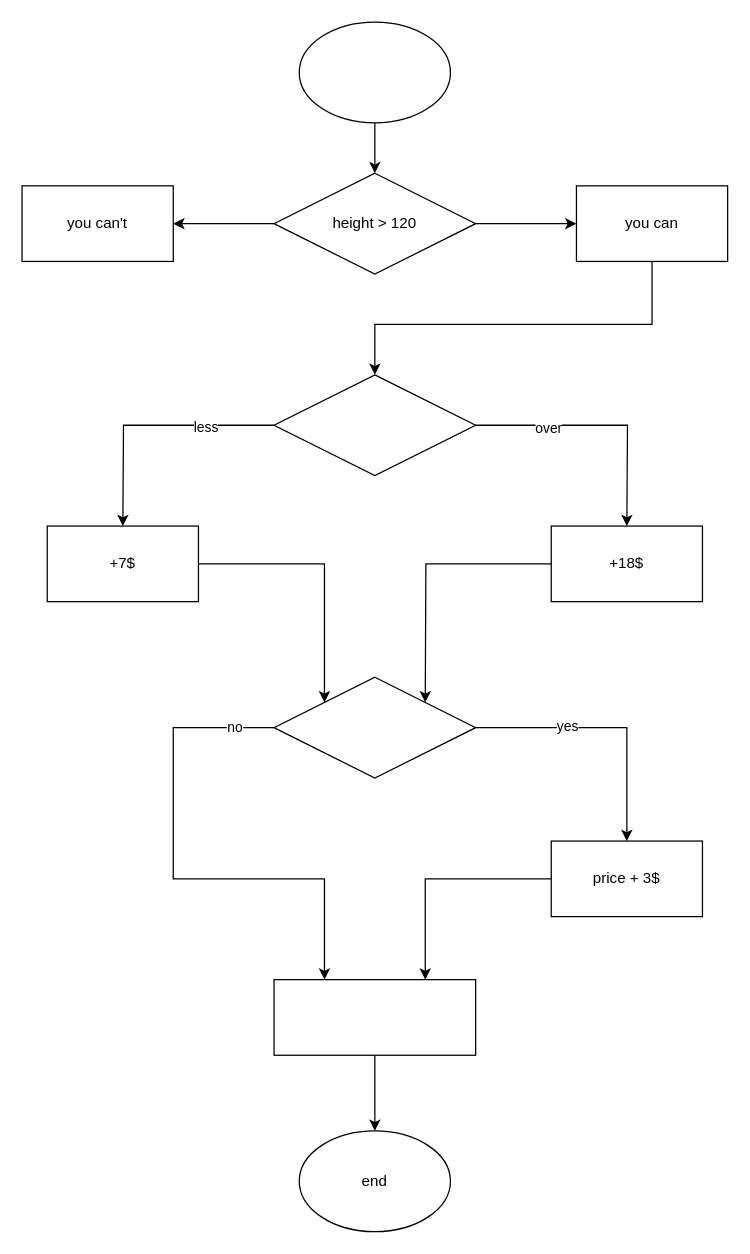
The diagram is 750 pixels wide and 1254 high, and some of its shapes have lost their labels. Here are the shapes that lost their labels. From the top down, the box of each, then its label:
(298, 21, 450, 123): start
(273, 374, 476, 476): age = 18
(273, 676, 476, 778): want photo?
(273, 978, 476, 1055): price = x$
